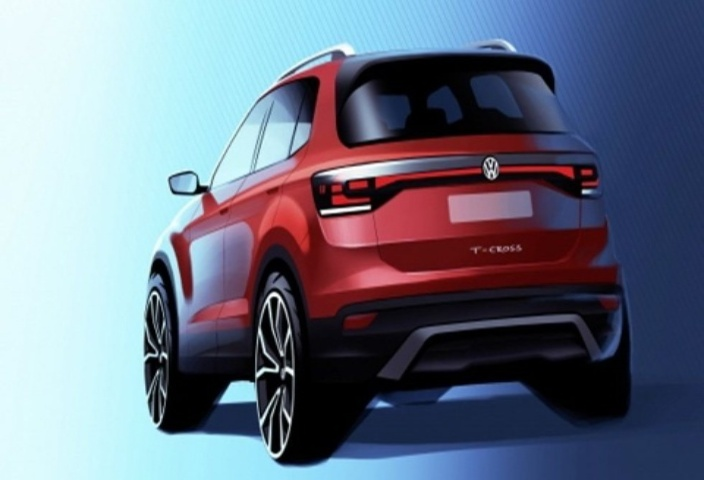camper: (75, 45, 652, 455)
